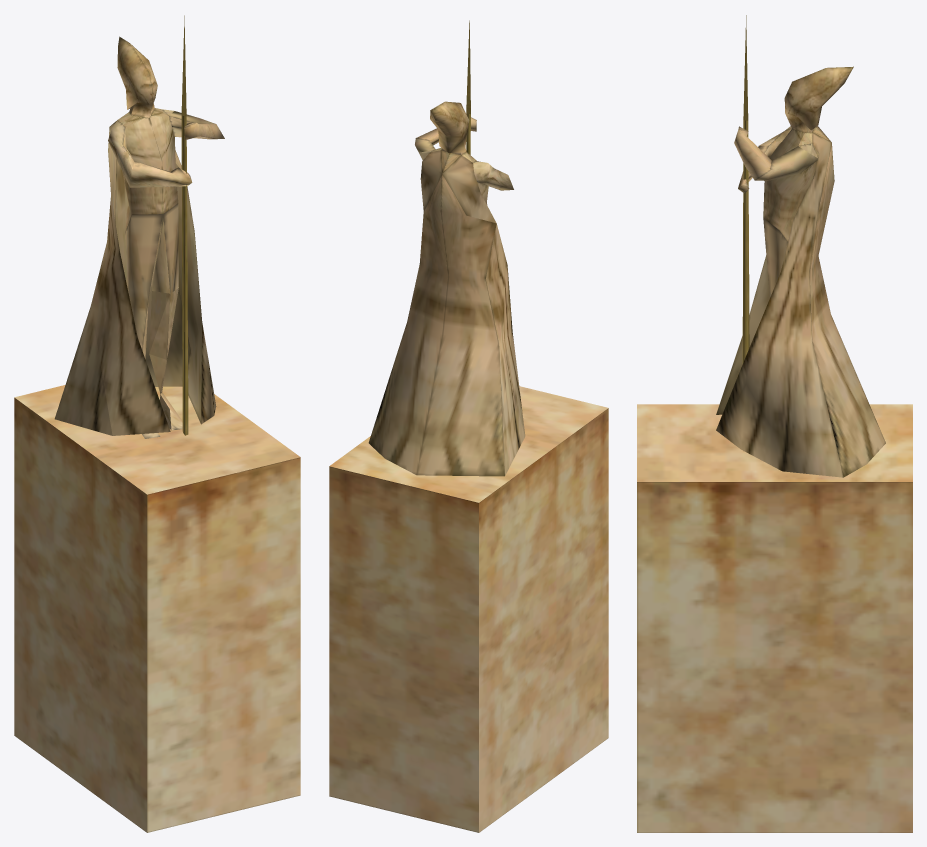
The model's file is thm_tato_guild_statue_freestand_s01_l2.fbx.
3 renders of one model, left to right at view 1: azimuth 30°, elevation 25°; view 2: azimuth 150°, elevation 25°; view 3: azimuth 270°, elevation 25°, orthographic. The views are drawn at different scales.
Parts seen in each view (by area): view 1: mesh_node; view 2: mesh_node; view 3: mesh_node.
Boxes of the visible parts, x1=… form: mesh_node: x1=14, y1=15, x2=300, y2=832; mesh_node: x1=329, y1=20, x2=608, y2=832; mesh_node: x1=637, y1=15, x2=912, y2=832.
Bounding box in the file's own units: 2 × 9.44 × 3.
